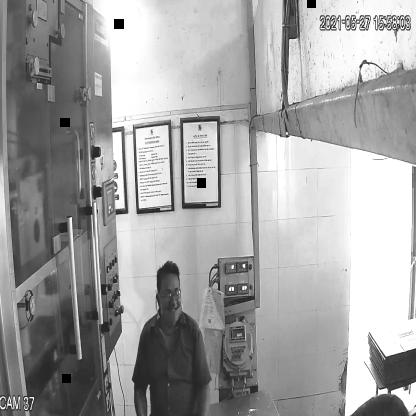goggles: (154, 283, 185, 306)
